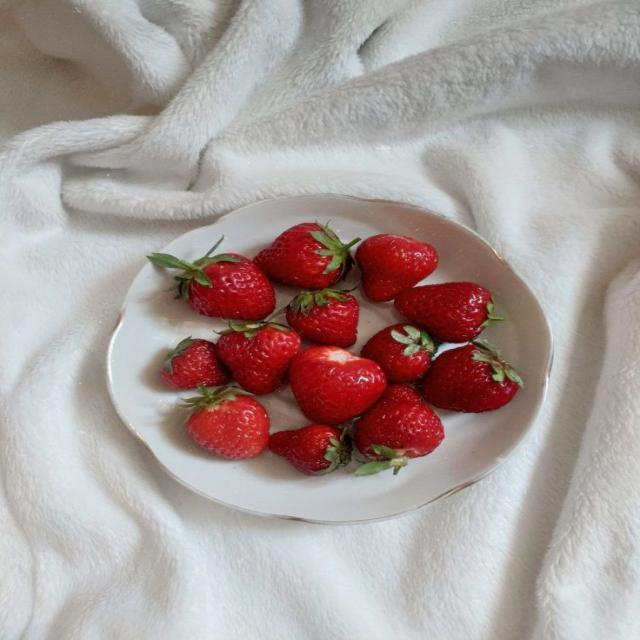strawberry: (148, 239, 275, 320), (355, 384, 444, 475), (290, 347, 386, 424), (421, 341, 522, 412), (254, 223, 359, 289), (394, 282, 503, 342), (184, 386, 269, 459), (217, 323, 300, 394), (355, 235, 438, 301), (361, 323, 437, 382), (287, 289, 359, 347), (269, 425, 350, 474), (160, 336, 230, 388)
